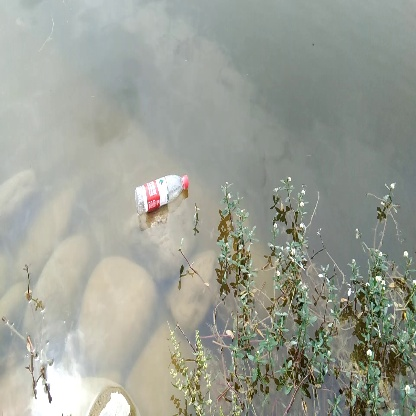bottle: (131, 171, 194, 218)
